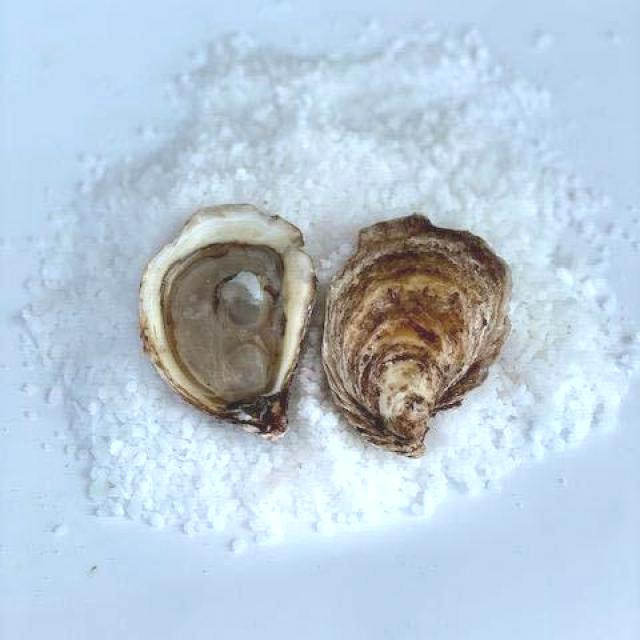Oyster-Closed: (324, 214, 511, 459)
Oyster-Open: (142, 204, 315, 436)
